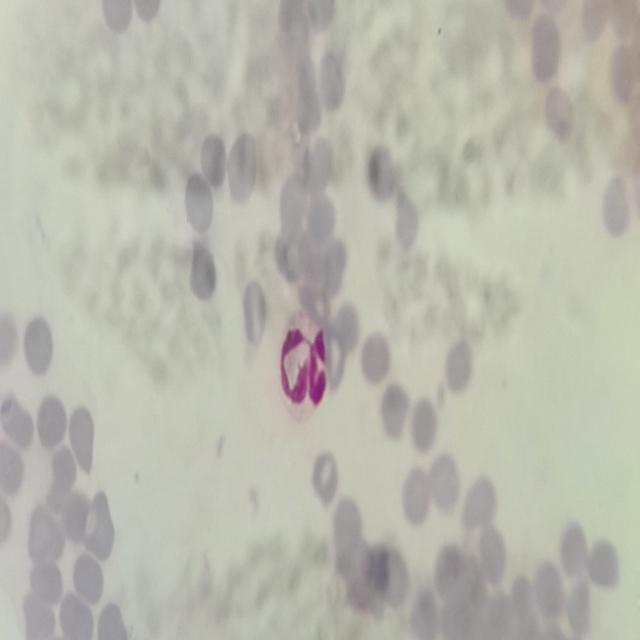Neutrofilo: (274, 309, 337, 419)
